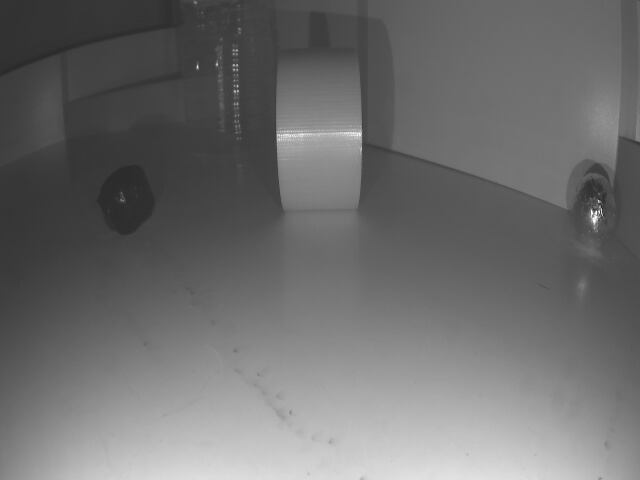Dead: (98, 169, 158, 229)
Live: (570, 172, 616, 244)
Point: (66, 76, 221, 141), (619, 137, 640, 261)
